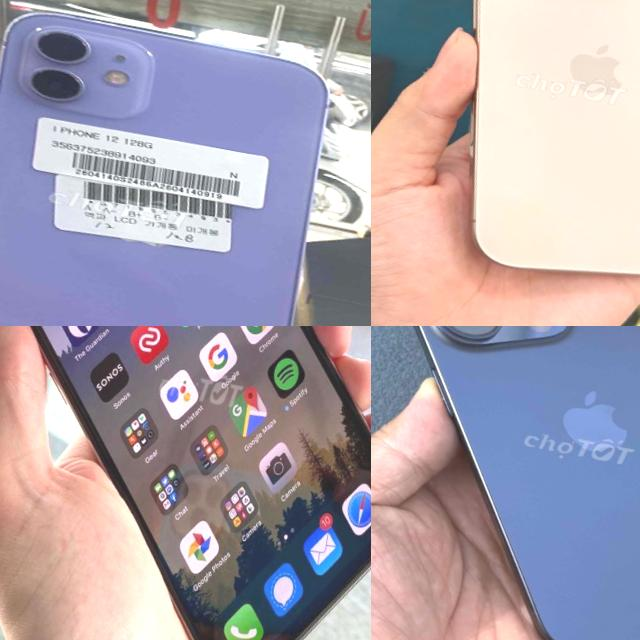gen_11: (29, 326, 371, 640)
gen_12_13: (0, 0, 355, 326)
gen_15: (371, 326, 640, 640)
gen_16: (470, 0, 640, 273)
